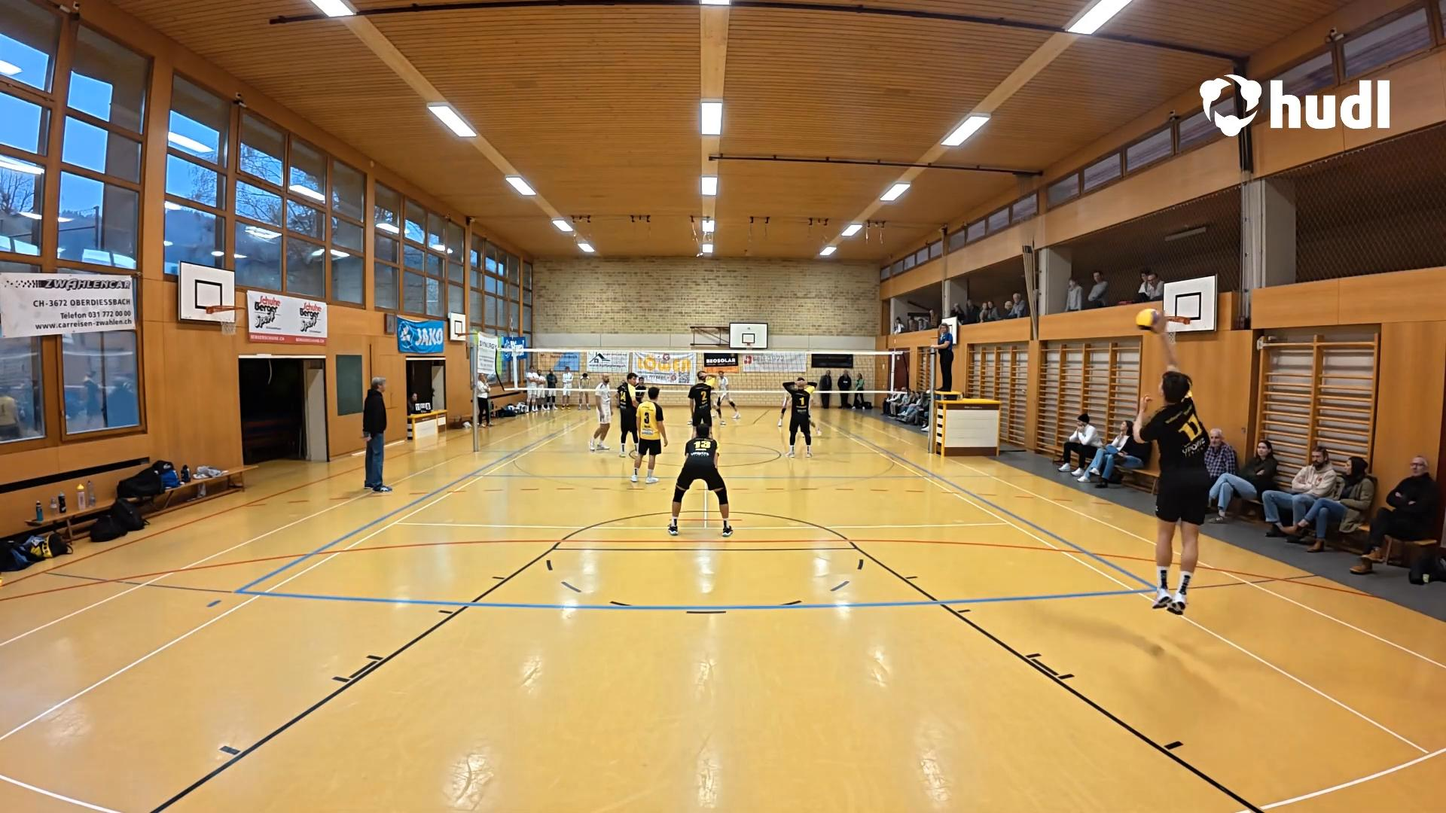battuta: (1133, 330, 1218, 614)
